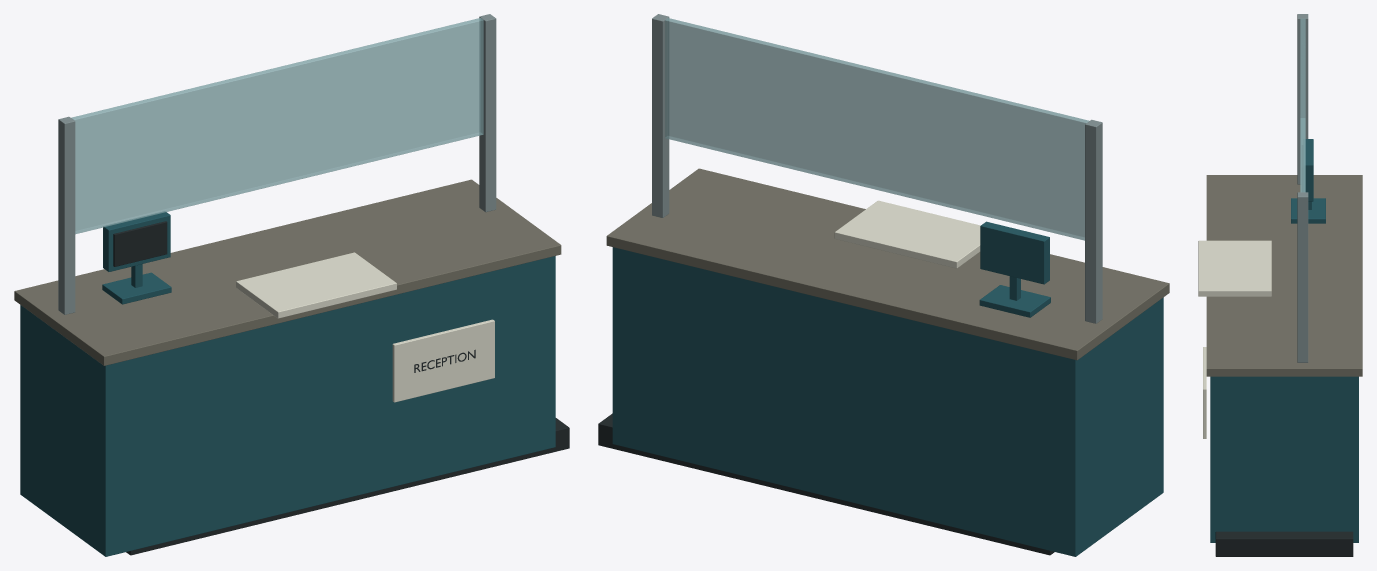
The model's file is source-edit.glb.
3 renders of one model, left to right at view 1: azimuth 30°, elevation 25°; view 2: azimuth 150°, elevation 25°; view 3: azimuth 270°, elevation 25°, orthographic. The views are drawn at different scales.
Visible parts, largest first — view 1: Counter_Body, Glazed_Partition, Worktop, Replaceable_Information_Panel, Document_Ledge, Partition_Post, Partition_Post.001, Counter_Base, Screen, Screen_Housing, Terminal_Foot; view 2: Counter_Body, Glazed_Partition, Worktop, Document_Ledge, Partition_Post, Partition_Post.001, Screen_Housing, Counter_Base, Terminal_Foot; view 3: Worktop, Counter_Body, Document_Ledge, Counter_Base, Partition_Post.001, Partition_Post, Glazed_Partition, Terminal_Foot, Screen_Housing, Replaceable_Information_Panel.
Part boxes in pixels (x1=…): Counter_Body: x1=20, y1=256, x2=555, y2=556; Glazed_Partition: x1=71, y1=18, x2=483, y2=234; Worktop: x1=14, y1=179, x2=561, y2=365; Replaceable_Information_Panel: x1=392, y1=319, x2=494, y2=402; Document_Ledge: x1=236, y1=252, x2=396, y2=318; Partition_Post: x1=58, y1=116, x2=75, y2=314; Partition_Post.001: x1=479, y1=14, x2=496, y2=212; Counter_Base: x1=126, y1=418, x2=569, y2=555; Screen: x1=113, y1=221, x2=167, y2=266; Screen_Housing: x1=103, y1=212, x2=170, y2=271; Terminal_Foot: x1=102, y1=272, x2=171, y2=304; Counter_Body: x1=612, y1=247, x2=1163, y2=556; Glazed_Partition: x1=665, y1=18, x2=1089, y2=240; Worktop: x1=606, y1=168, x2=1169, y2=360; Document_Ledge: x1=834, y1=200, x2=980, y2=268; Partition_Post: x1=1085, y1=119, x2=1102, y2=323; Partition_Post.001: x1=652, y1=14, x2=669, y2=217; Screen_Housing: x1=980, y1=221, x2=1049, y2=284; Counter_Base: x1=598, y1=413, x2=1054, y2=555; Terminal_Foot: x1=979, y1=285, x2=1050, y2=317; Worktop: x1=1206, y1=175, x2=1362, y2=376; Counter_Body: x1=1210, y1=376, x2=1358, y2=542; Document_Ledge: x1=1198, y1=240, x2=1271, y2=296; Counter_Base: x1=1215, y1=531, x2=1353, y2=556; Partition_Post.001: x1=1297, y1=192, x2=1308, y2=362; Partition_Post: x1=1297, y1=14, x2=1308, y2=184; Glazed_Partition: x1=1300, y1=18, x2=1305, y2=192; Terminal_Foot: x1=1291, y1=198, x2=1325, y2=223; Screen_Housing: x1=1304, y1=139, x2=1313, y2=201; Replaceable_Information_Panel: x1=1203, y1=347, x2=1206, y2=438.
Size of the model in its own units: 2.57 by 2.1 by 0.895.
